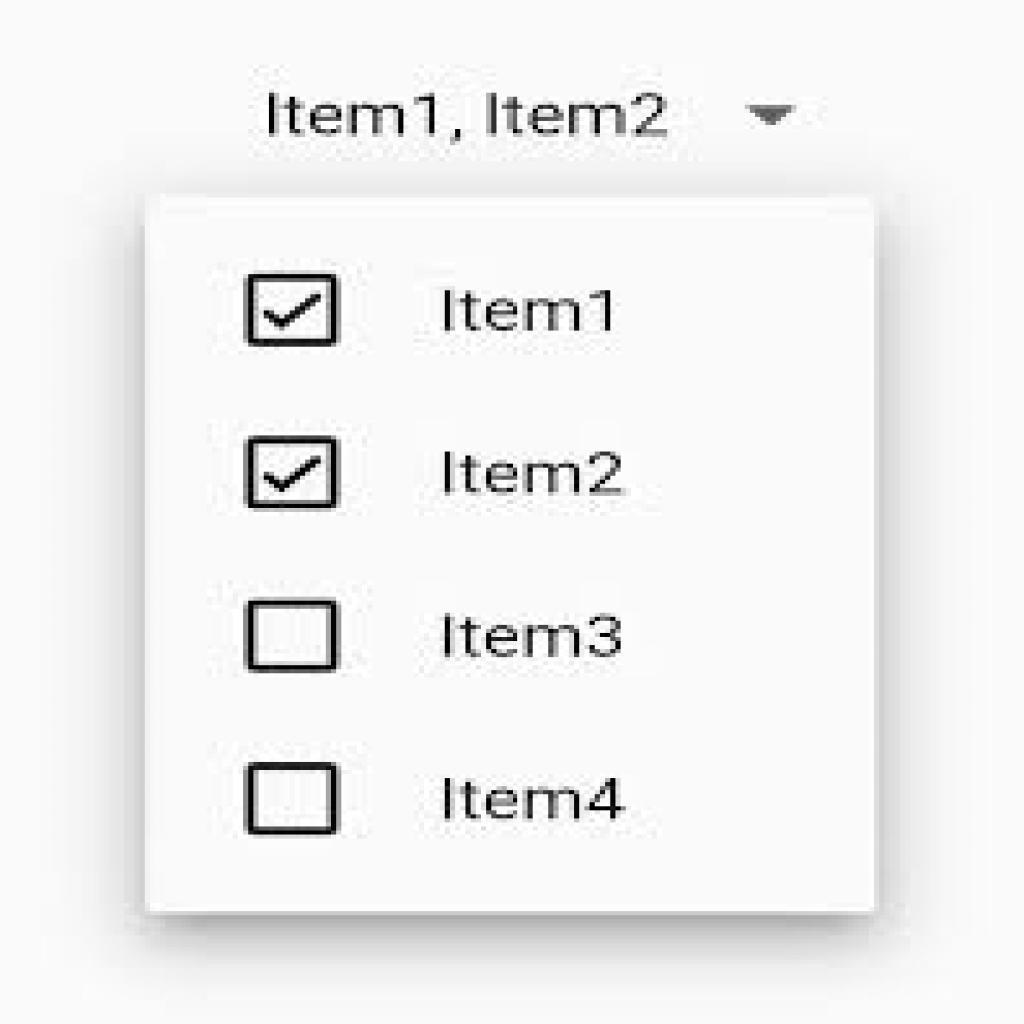checkbox: (244, 760, 342, 837), (244, 433, 336, 514), (244, 271, 334, 346), (245, 599, 340, 669)
icon: (733, 94, 810, 142)
label: (251, 86, 680, 153)
